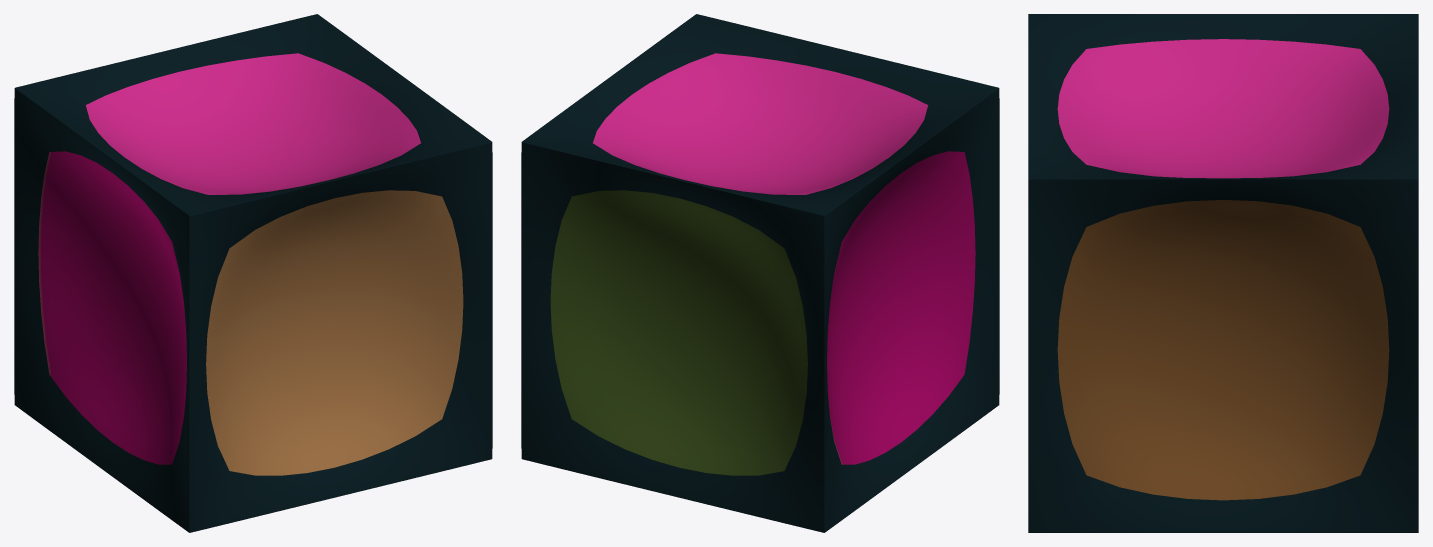
The picture shows the model from 3 angles, left to right: view 1: azimuth 30°, elevation 25°; view 2: azimuth 150°, elevation 25°; view 3: azimuth 270°, elevation 25°; orthographic projection. The views are drawn at different scales.
Parts seen in each view (by area): view 1: Box001; view 2: Box001; view 3: Box001.
Part boxes in pixels (x1,y1,x2,y2): Box001: [14, 14, 492, 532]; Box001: [521, 14, 999, 532]; Box001: [1028, 14, 1418, 532].
Bounding box in the file's own units: 19.82 × 19.82 × 19.82.
Materials: 1 (1 with a texture image).
